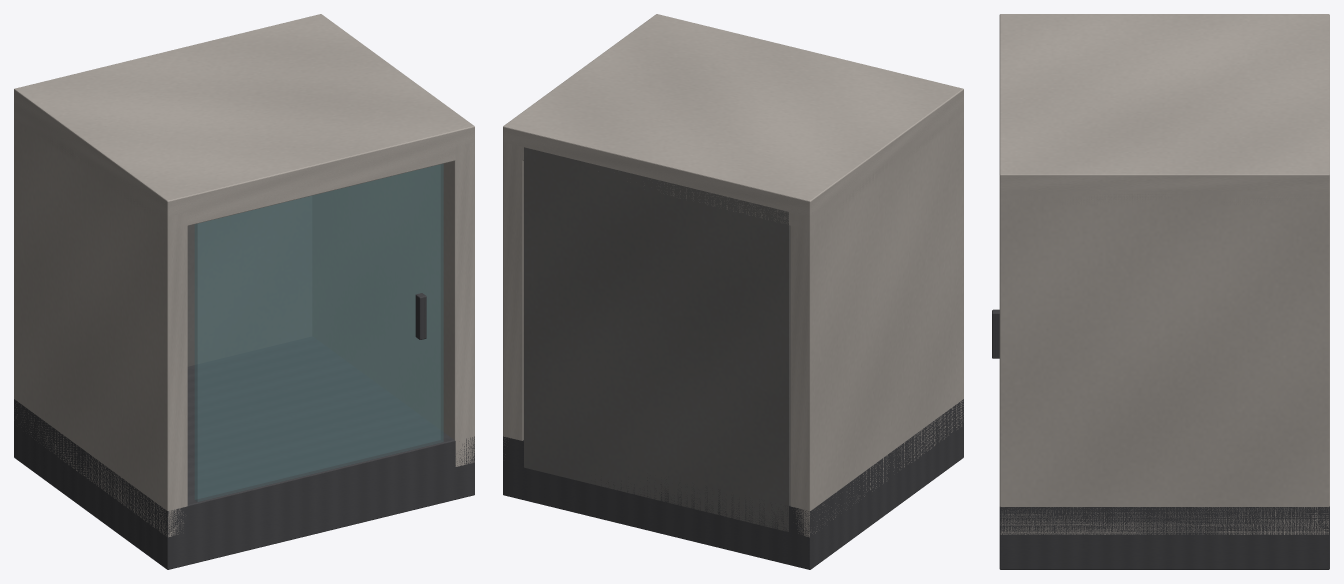
The model's file is test_chamber.glb.
The picture shows the model from 3 angles, left to right: view 1: azimuth 30°, elevation 25°; view 2: azimuth 150°, elevation 25°; view 3: azimuth 270°, elevation 25°; orthographic projection. The views are drawn at different scales.
Parts seen in each view (by area): view 1: glass_door, top.006, base.019, side.004, side.005, back.002; view 2: back.002, top.006, side.004, base.019, side.005; view 3: side.005, top.006, base.019.
Boxes of the visible parts, bbox=[...] form: glass_door: bbox=[194, 164, 443, 501]; top.006: bbox=[14, 14, 474, 229]; base.019: bbox=[14, 336, 474, 569]; side.004: bbox=[14, 112, 187, 537]; side.005: bbox=[312, 142, 474, 466]; back.002: bbox=[187, 196, 312, 366]; back.002: bbox=[523, 147, 790, 531]; top.006: bbox=[503, 14, 963, 229]; side.004: bbox=[790, 105, 963, 537]; base.019: bbox=[503, 399, 963, 569]; side.005: bbox=[503, 142, 523, 454]; side.005: bbox=[999, 191, 1329, 534]; top.006: bbox=[999, 14, 1329, 205]; base.019: bbox=[999, 506, 1329, 569].
Size of the model in its own units: 1.5 by 1.72 by 1.33.
4 materials, 3 textured.
